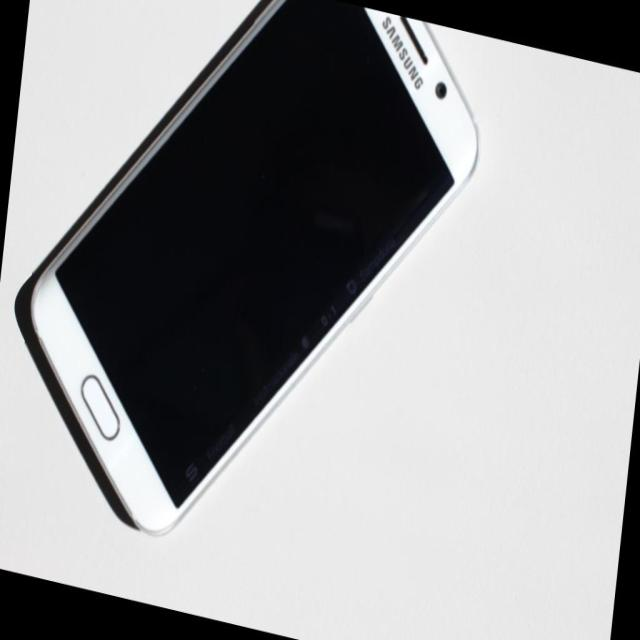handphone: (33, 6, 478, 531)
